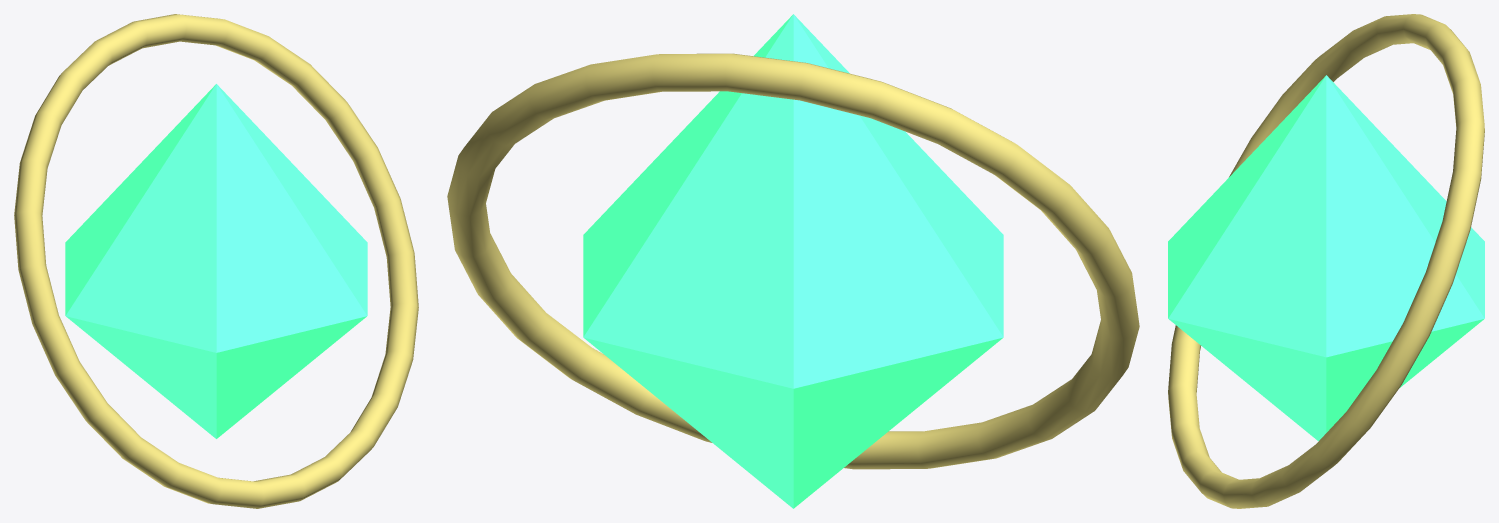
File: prop_heal_orb.glb
The picture shows the model from 3 angles, left to right: view 1: azimuth 30°, elevation 25°; view 2: azimuth 150°, elevation 25°; view 3: azimuth 270°, elevation 25°; orthographic projection. The views are drawn at different scales.
Visible parts, largest first — view 1: HealGem, HealOrbit; view 2: HealGem, HealOrbit; view 3: HealGem, HealOrbit.
Part boxes in pixels (x1=…): HealGem: x1=65, y1=84, x2=367, y2=438; HealOrbit: x1=14, y1=14, x2=418, y2=508; HealGem: x1=583, y1=14, x2=1003, y2=508; HealOrbit: x1=447, y1=53, x2=1139, y2=469; HealGem: x1=1168, y1=75, x2=1484, y2=441; HealOrbit: x1=1168, y1=14, x2=1484, y2=508.
Bounding box in the file's own units: 0.901 × 0.8017 × 0.5545.
